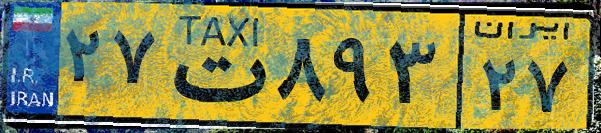2: (57, 26, 110, 100), (475, 38, 525, 113)
3: (385, 28, 445, 110)
7: (525, 38, 570, 115), (110, 28, 158, 98)
8: (270, 28, 330, 110)
9: (330, 28, 385, 110)
ت: (158, 12, 270, 120)
